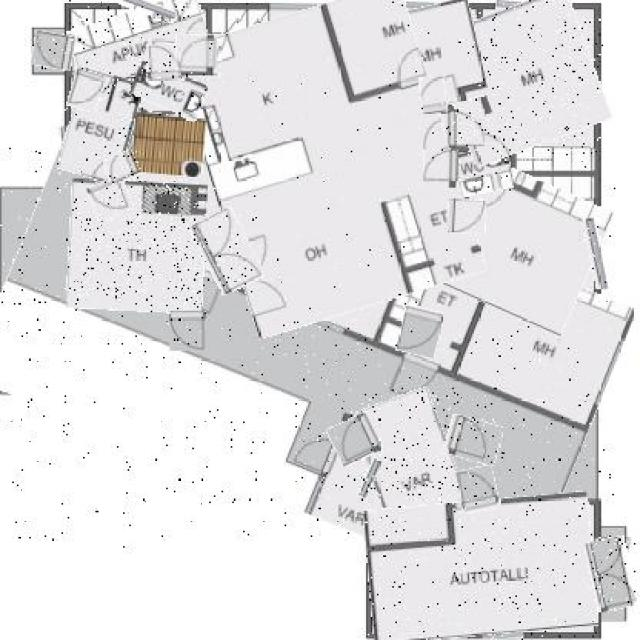door: (197, 210, 257, 292), (590, 537, 636, 611), (444, 417, 502, 463), (329, 415, 380, 463), (397, 308, 441, 357), (458, 466, 498, 512), (175, 34, 217, 75), (89, 177, 131, 218), (33, 32, 76, 70), (170, 311, 208, 351), (68, 69, 103, 111), (446, 109, 485, 146), (423, 151, 459, 191), (148, 45, 185, 80), (449, 200, 486, 234), (105, 150, 138, 182), (420, 77, 448, 114)
window: (588, 217, 606, 289), (103, 306, 165, 326), (60, 204, 74, 276), (118, 0, 174, 17), (268, 1, 338, 12), (496, 1, 562, 12), (360, 458, 378, 498), (283, 309, 332, 323), (426, 624, 466, 640), (391, 1, 449, 12), (481, 627, 523, 640), (60, 126, 72, 169), (231, 312, 278, 320)
zone: (0, 135, 615, 547), (191, 0, 466, 325), (366, 496, 597, 638), (440, 0, 603, 155), (446, 169, 603, 325), (69, 180, 208, 312), (360, 392, 463, 537), (368, 1, 483, 110), (69, 0, 208, 82), (63, 70, 139, 182), (132, 115, 206, 177), (131, 68, 206, 117), (456, 147, 512, 196)
